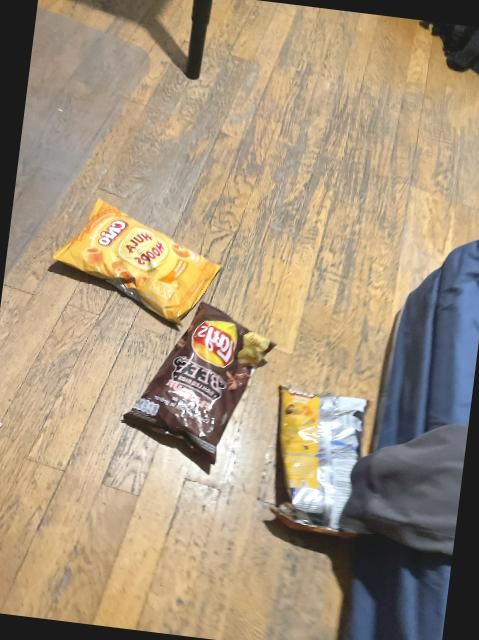Chio Cascaval 125g: (260, 381, 376, 533)
Chio Hula Hoops Cheese 70g: (50, 196, 228, 326)
Lays Beef Grilled Ribs 125g: (114, 296, 273, 464)
